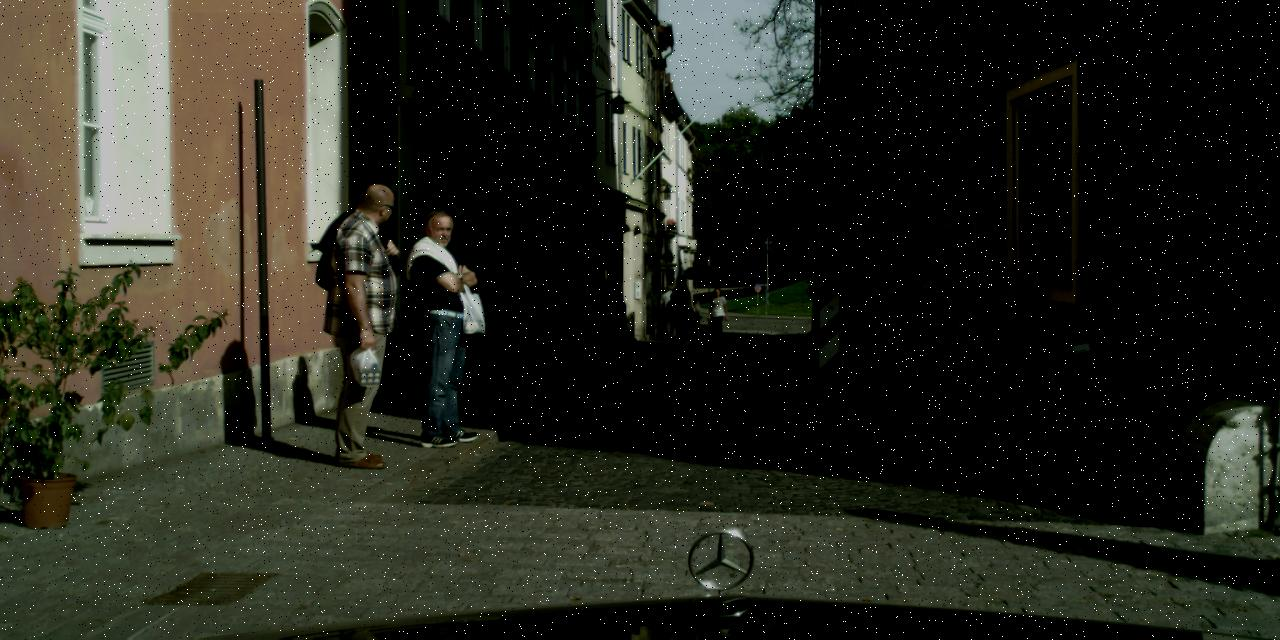ped: (311, 185, 425, 464), (396, 208, 490, 442), (904, 216, 997, 444), (666, 274, 696, 352), (659, 284, 682, 340), (706, 286, 729, 342), (693, 300, 700, 318)
